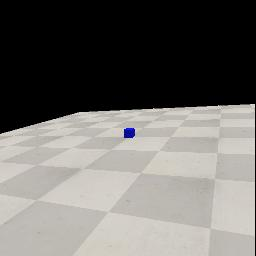box: (124, 128, 135, 138)
